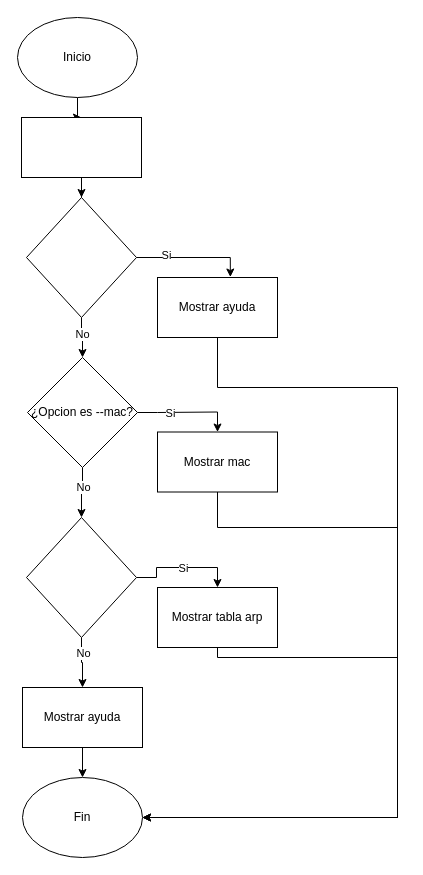
Some shapes in this 423 by 875 pixel diagram are drawn without their labels. Each missing label, with the box of its shape:
Pasar argumentos: (20, 116, 142, 178)
¿Opción es --arp?: (26, 516, 136, 638)
¿Opción es --help?: (26, 196, 136, 318)
